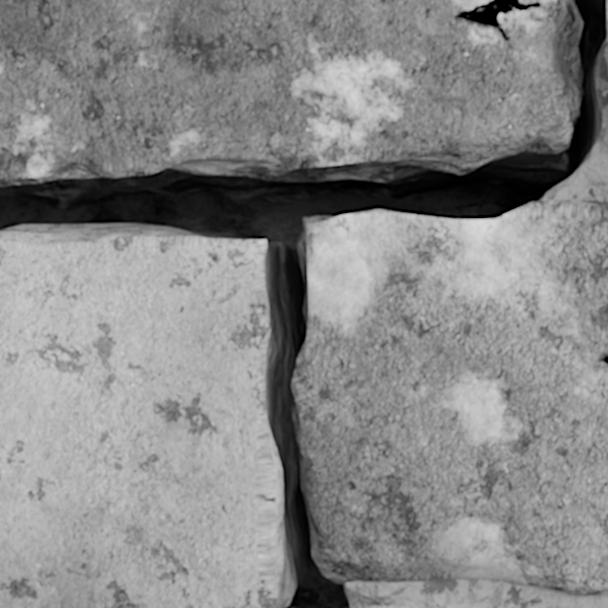brick: (292, 200, 607, 594), (0, 230, 286, 607), (0, 0, 576, 182)
crack: (0, 0, 607, 607), (453, 0, 542, 42), (598, 349, 607, 364)
